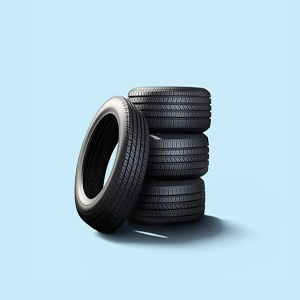tire: (71, 93, 148, 233), (127, 85, 214, 133), (127, 132, 210, 181), (130, 184, 206, 230)
